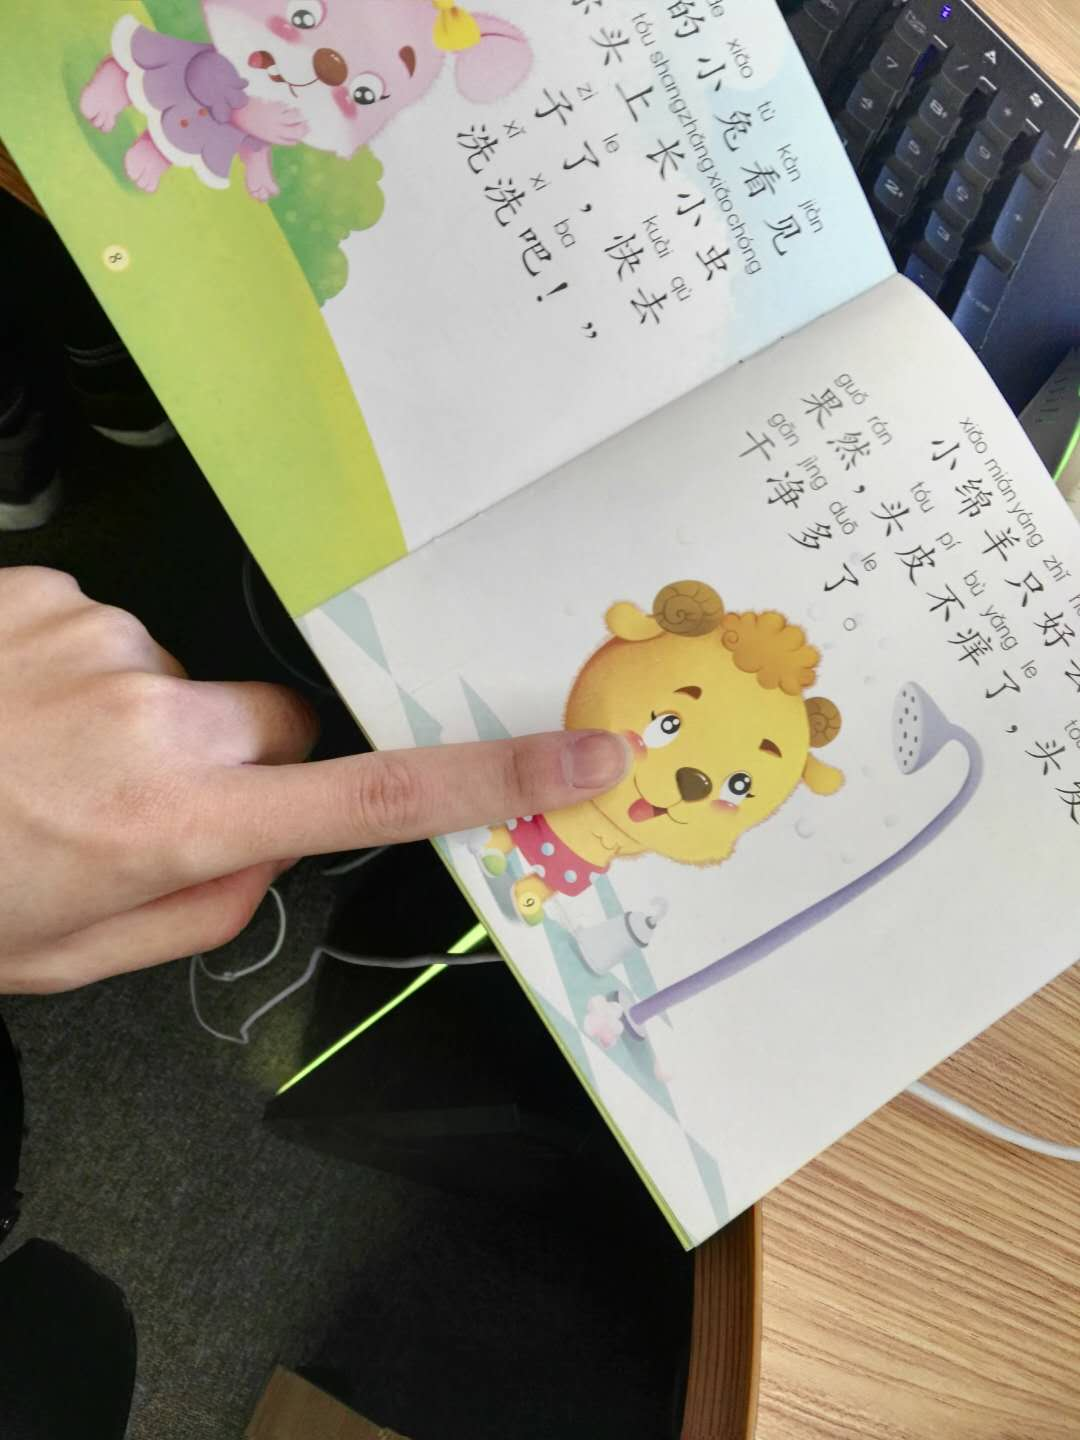finger: (425, 685, 655, 847)
